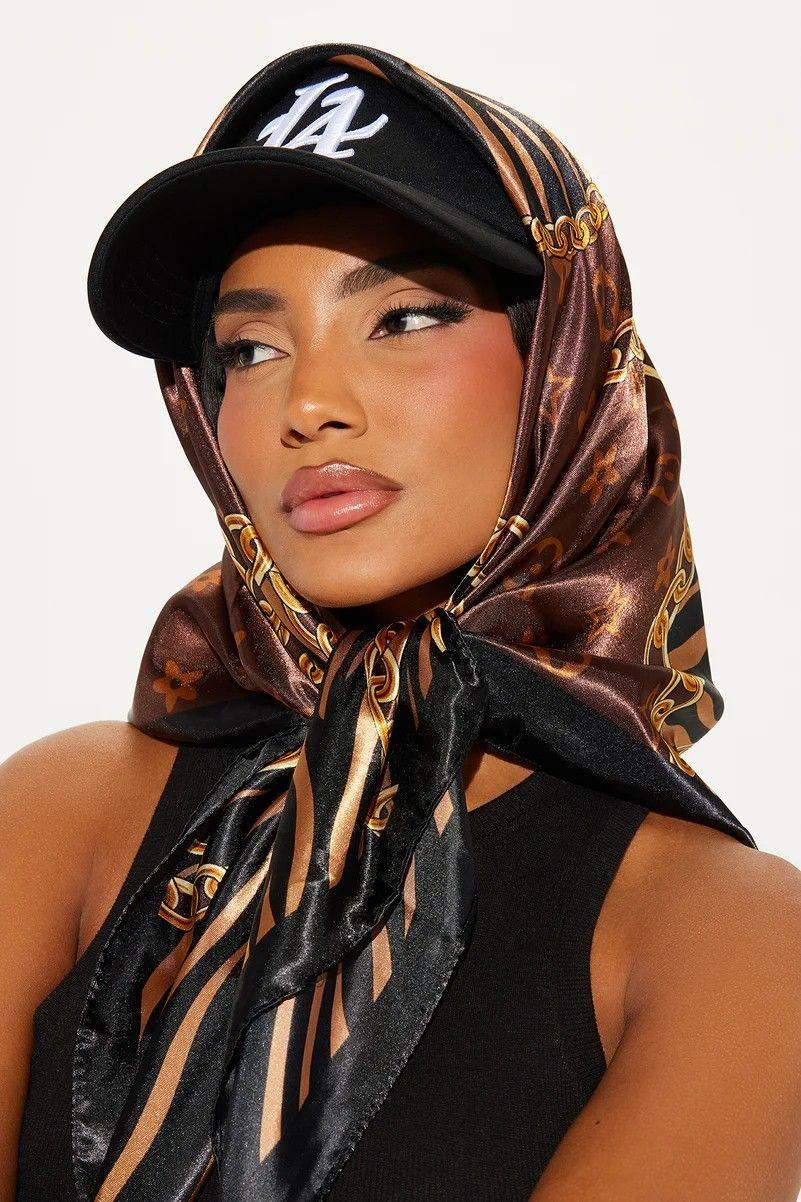cap: (60, 53, 717, 357)
scarf-kerchief: (23, 20, 747, 1201)
